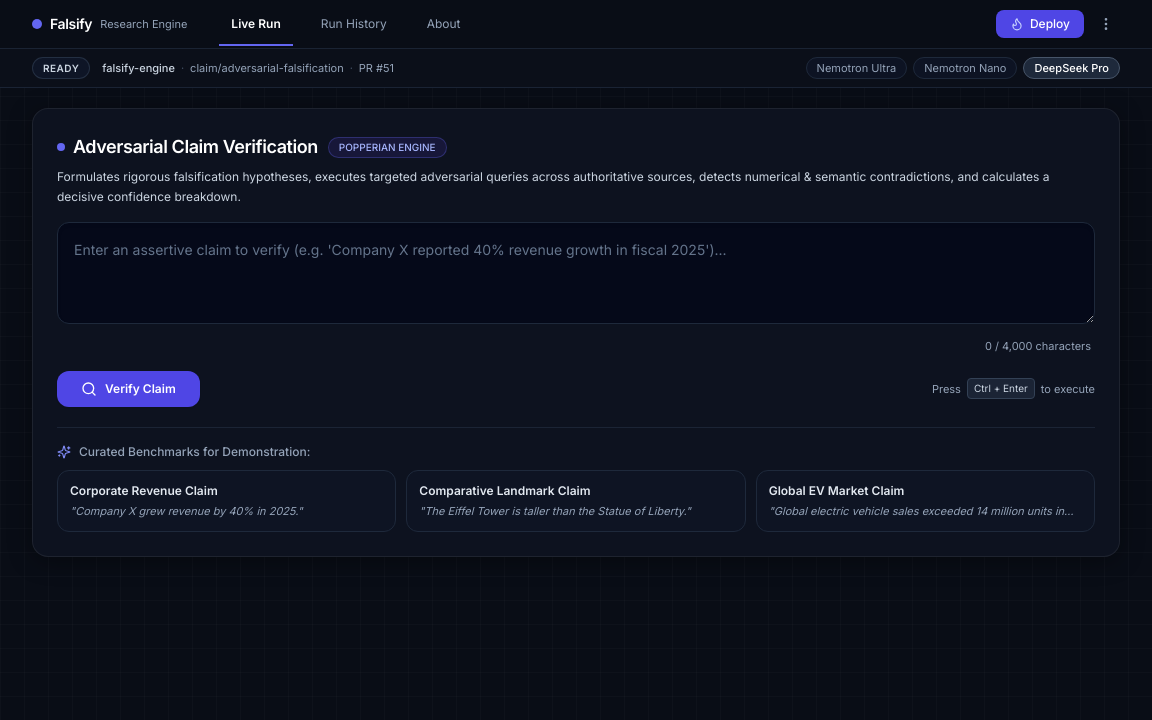
Scenario: Phase 5 Frontend End-to-End Workflow & Reliability Hardening › recovers cleanly and allows retry when verification stream fails with an error
Replace the text in the text box named "Claim statement to verify" with "First failing claim": (576, 273) x1=57 y1=222 x2=1095 y2=324
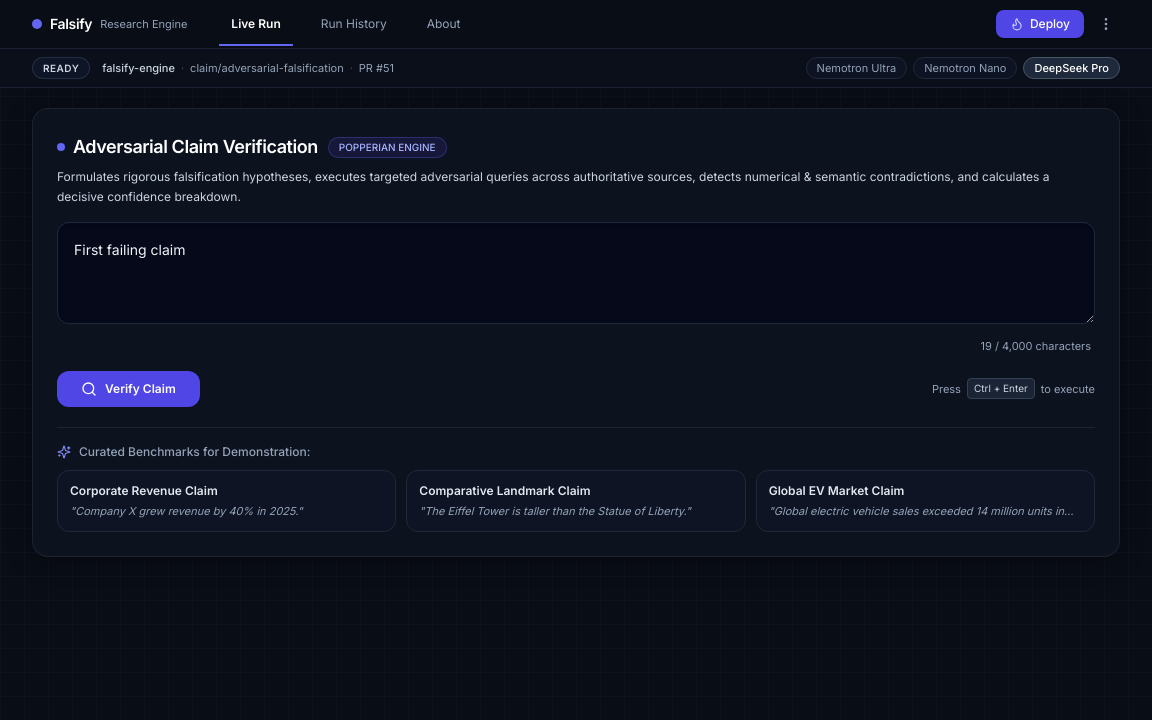
Click the button "Verify Claim": (128, 389) x1=57 y1=371 x2=200 y2=407
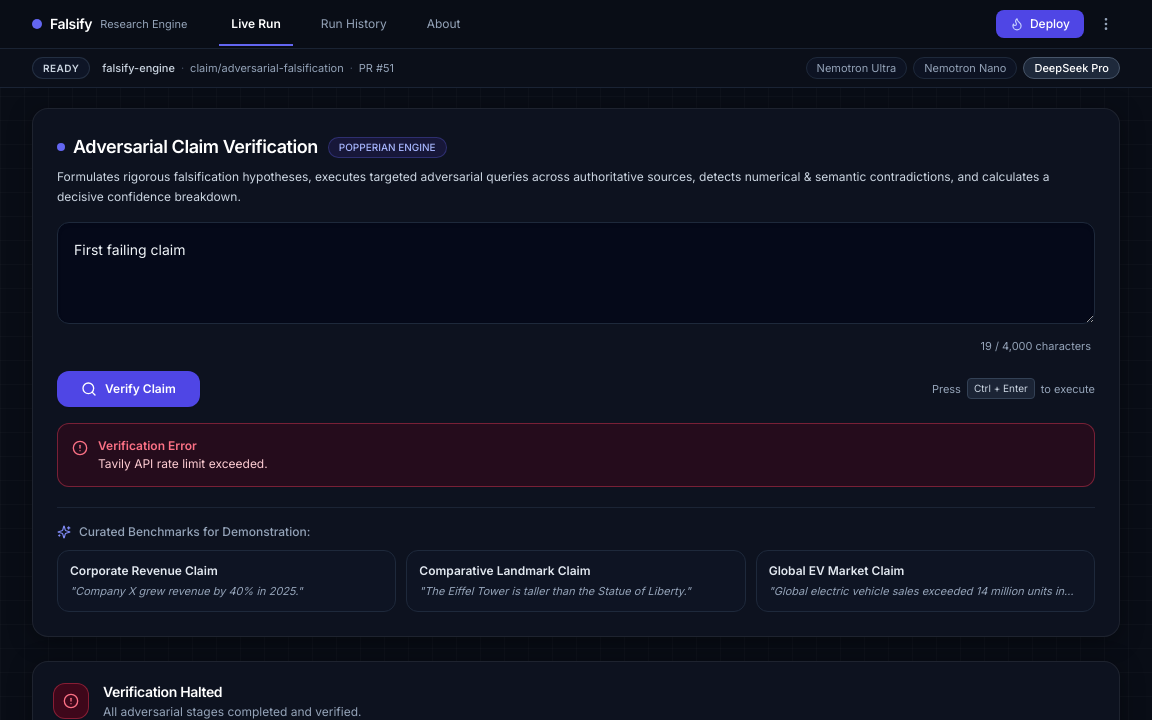
Expected: the text "Tavily API rate limit exceeded." is shown, x1=98 y1=456 x2=268 y2=472
Replace the text in the text box named "Claim statement to verify" with "Second successful retry claim": (576, 273) x1=57 y1=222 x2=1095 y2=324
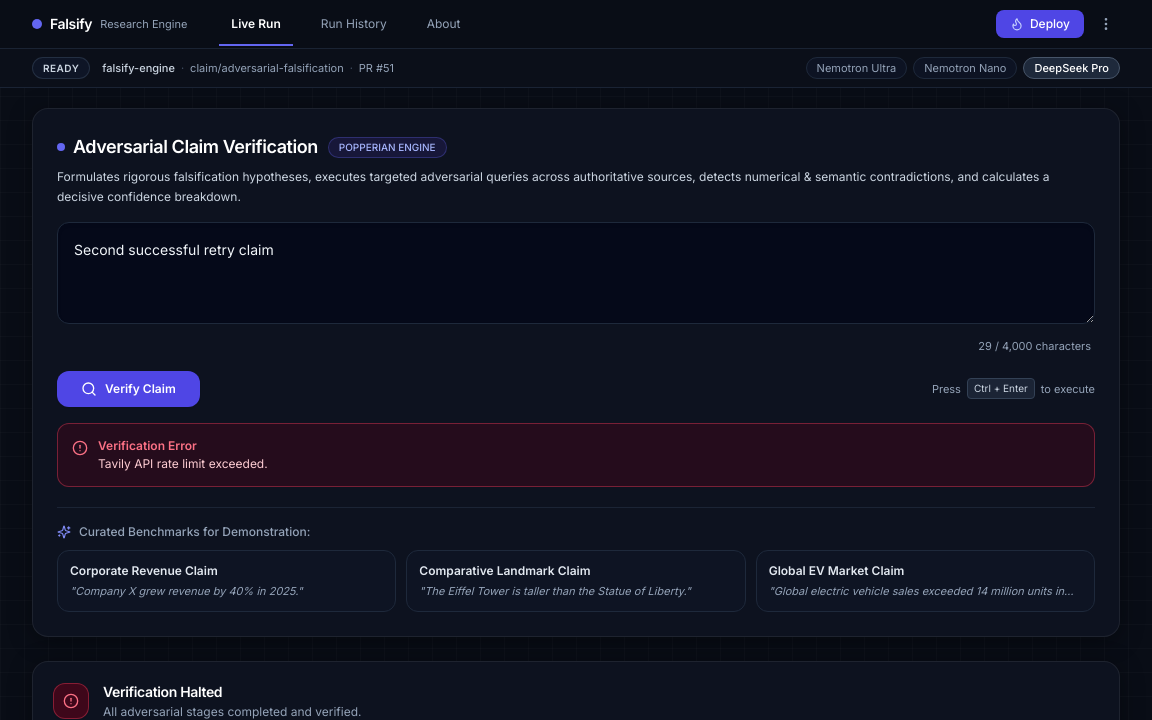
Click the button "Verify Claim": (128, 389) x1=57 y1=371 x2=200 y2=407
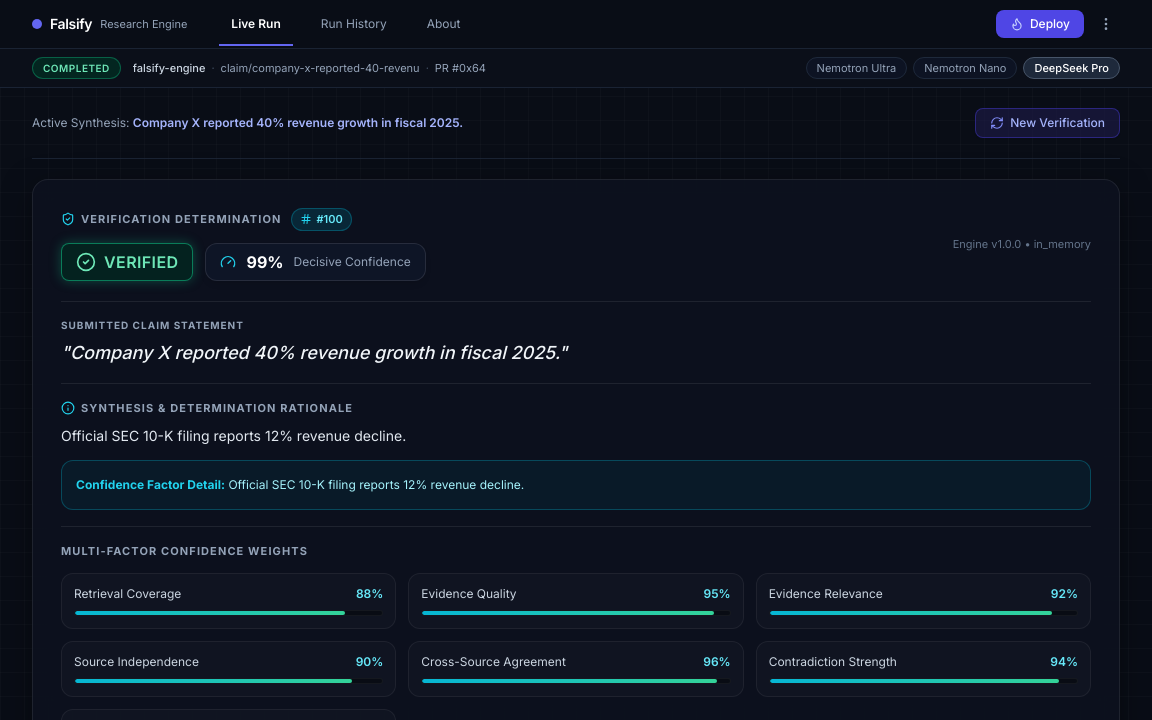
Expected: the text "VERIFIED" is shown, x1=104 y1=250 x2=178 y2=274
Expected: the text "Tavily API rate limit exceeded" is gone
